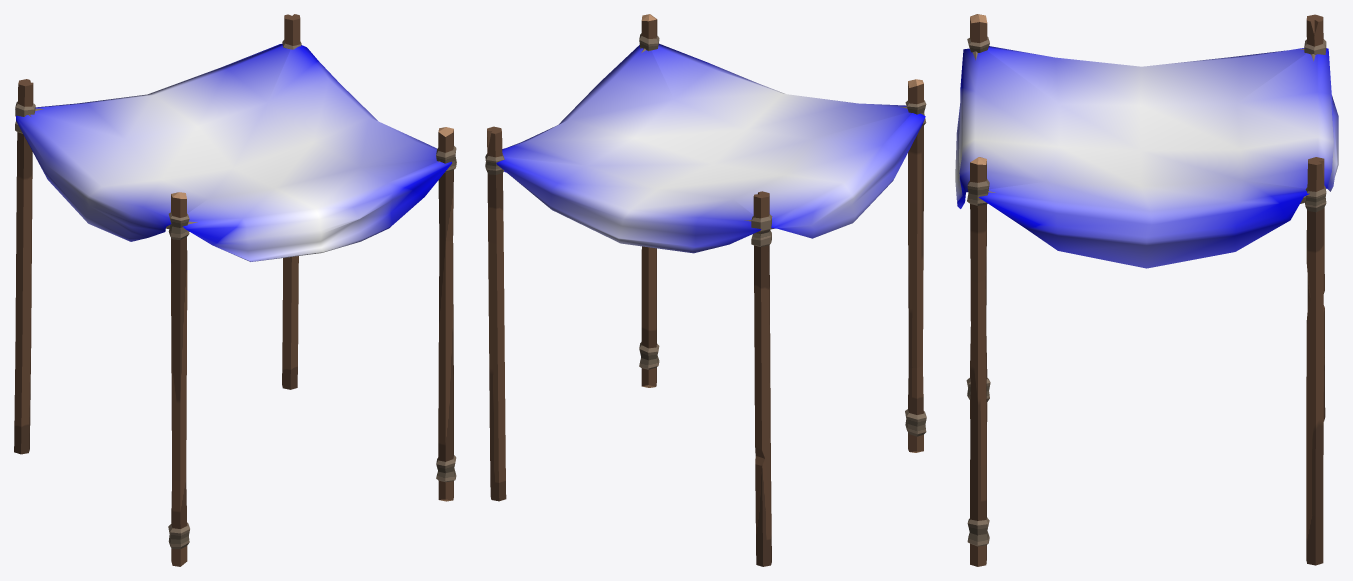
The model's file is SM_Bld_Awning_02.fbx.
The picture shows the model from 3 angles, left to right: view 1: azimuth 30°, elevation 25°; view 2: azimuth 150°, elevation 25°; view 3: azimuth 270°, elevation 25°; orthographic projection. The views are drawn at different scales.
Parts seen in each view (by area): view 1: SM_Bld_Awning_02; view 2: SM_Bld_Awning_02; view 3: SM_Bld_Awning_02.
Part boxes in pixels (box(x1,y1,x2,y2)): SM_Bld_Awning_02: box(14, 14, 456, 566); SM_Bld_Awning_02: box(485, 14, 926, 566); SM_Bld_Awning_02: box(955, 14, 1338, 566).
Bounding box in the file's own units: 282 × 335 × 285.
